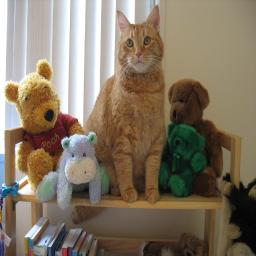catnose: (135, 48, 143, 60)
